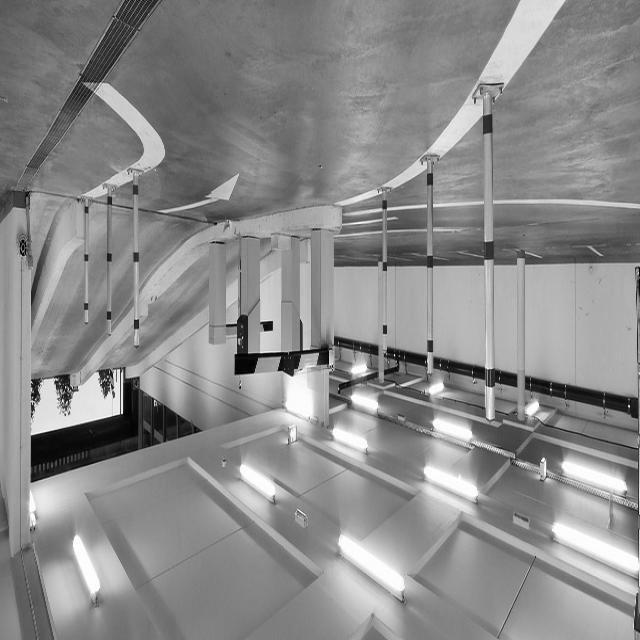light: (548, 514, 640, 576), (335, 532, 409, 599), (561, 457, 631, 497), (424, 462, 483, 501), (71, 533, 101, 607), (322, 421, 377, 460), (236, 460, 281, 507), (426, 418, 480, 441), (346, 389, 384, 410)
